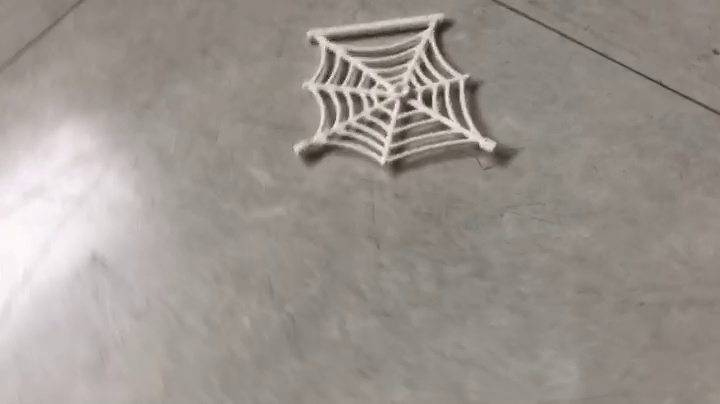web: (292, 12, 516, 168)
